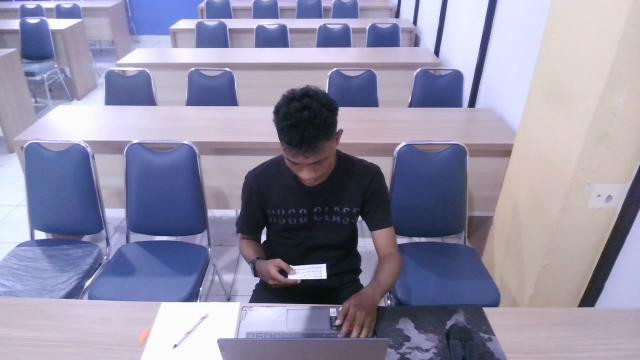Cheat_Sheet: (282, 259, 334, 283)
Head_Down_Extreme: (229, 77, 407, 326)
